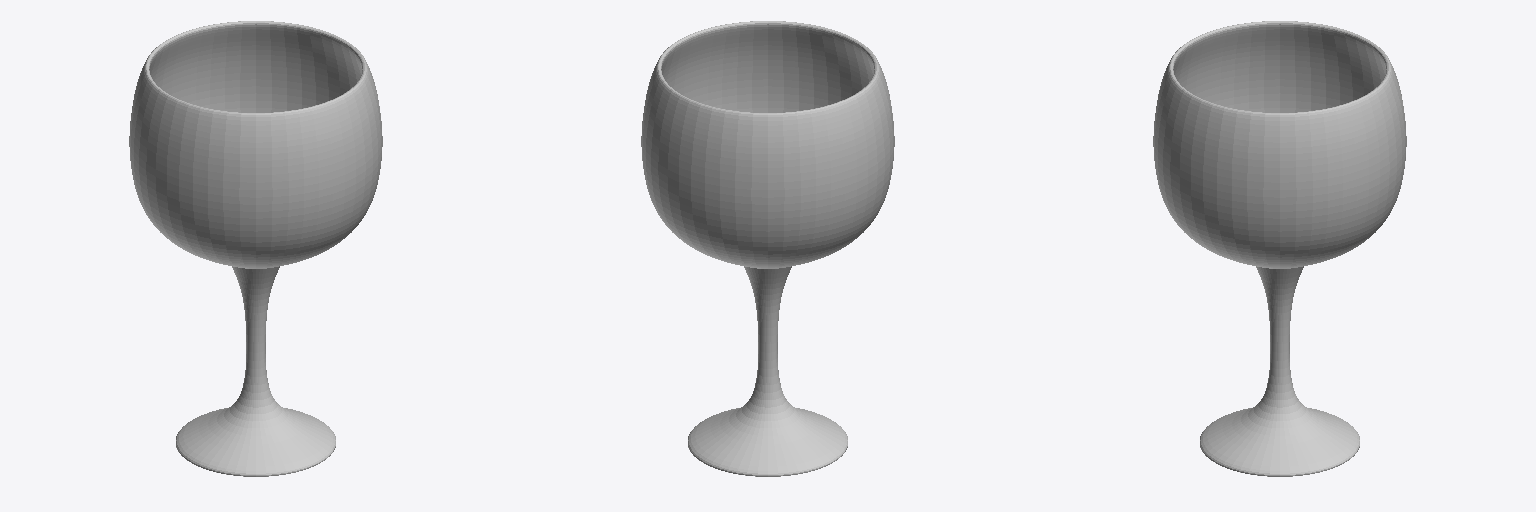
File: glass4.obj
The picture shows the model from 3 angles: view 1: azimuth 30°, elevation 25°; view 2: azimuth 150°, elevation 25°; view 3: azimuth 270°, elevation 25°; orthographic projection.
Visible parts, largest first — view 1: 4; view 2: 4; view 3: 4.
Boxes of the visible parts, <box> form: 4: <box>129,21,382,476</box>; 4: <box>641,21,894,476</box>; 4: <box>1153,21,1406,476</box>.
Size of the model in its own units: 1.05 by 1.73 by 1.05.